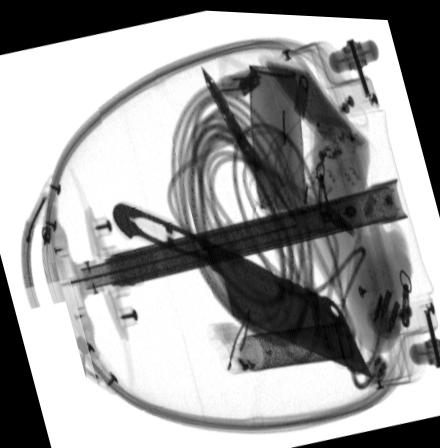Knife: (110, 199, 374, 379)
Powerbank: (254, 49, 368, 140)
Scissors: (198, 64, 321, 243)
